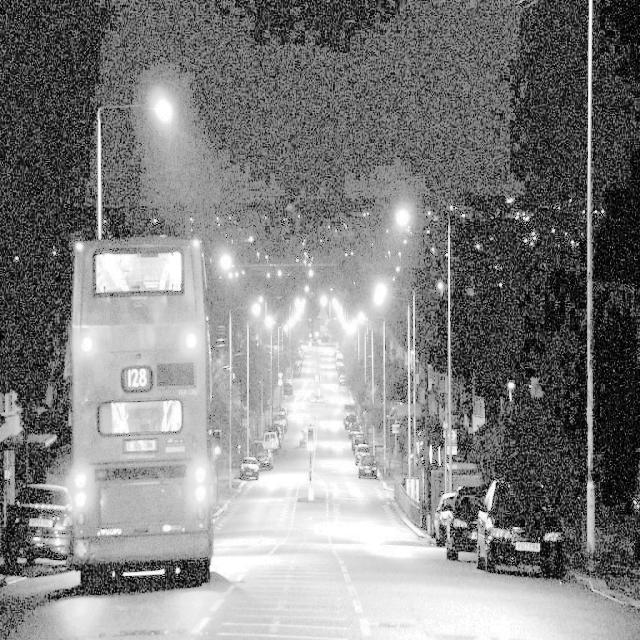Bus: (61, 221, 214, 591)
Car: (476, 453, 600, 571), (0, 478, 79, 568), (441, 470, 503, 572), (428, 479, 466, 563), (351, 441, 381, 504), (237, 446, 279, 490), (270, 389, 297, 445), (353, 404, 378, 460), (355, 421, 371, 470), (262, 437, 281, 471), (260, 418, 279, 452)
